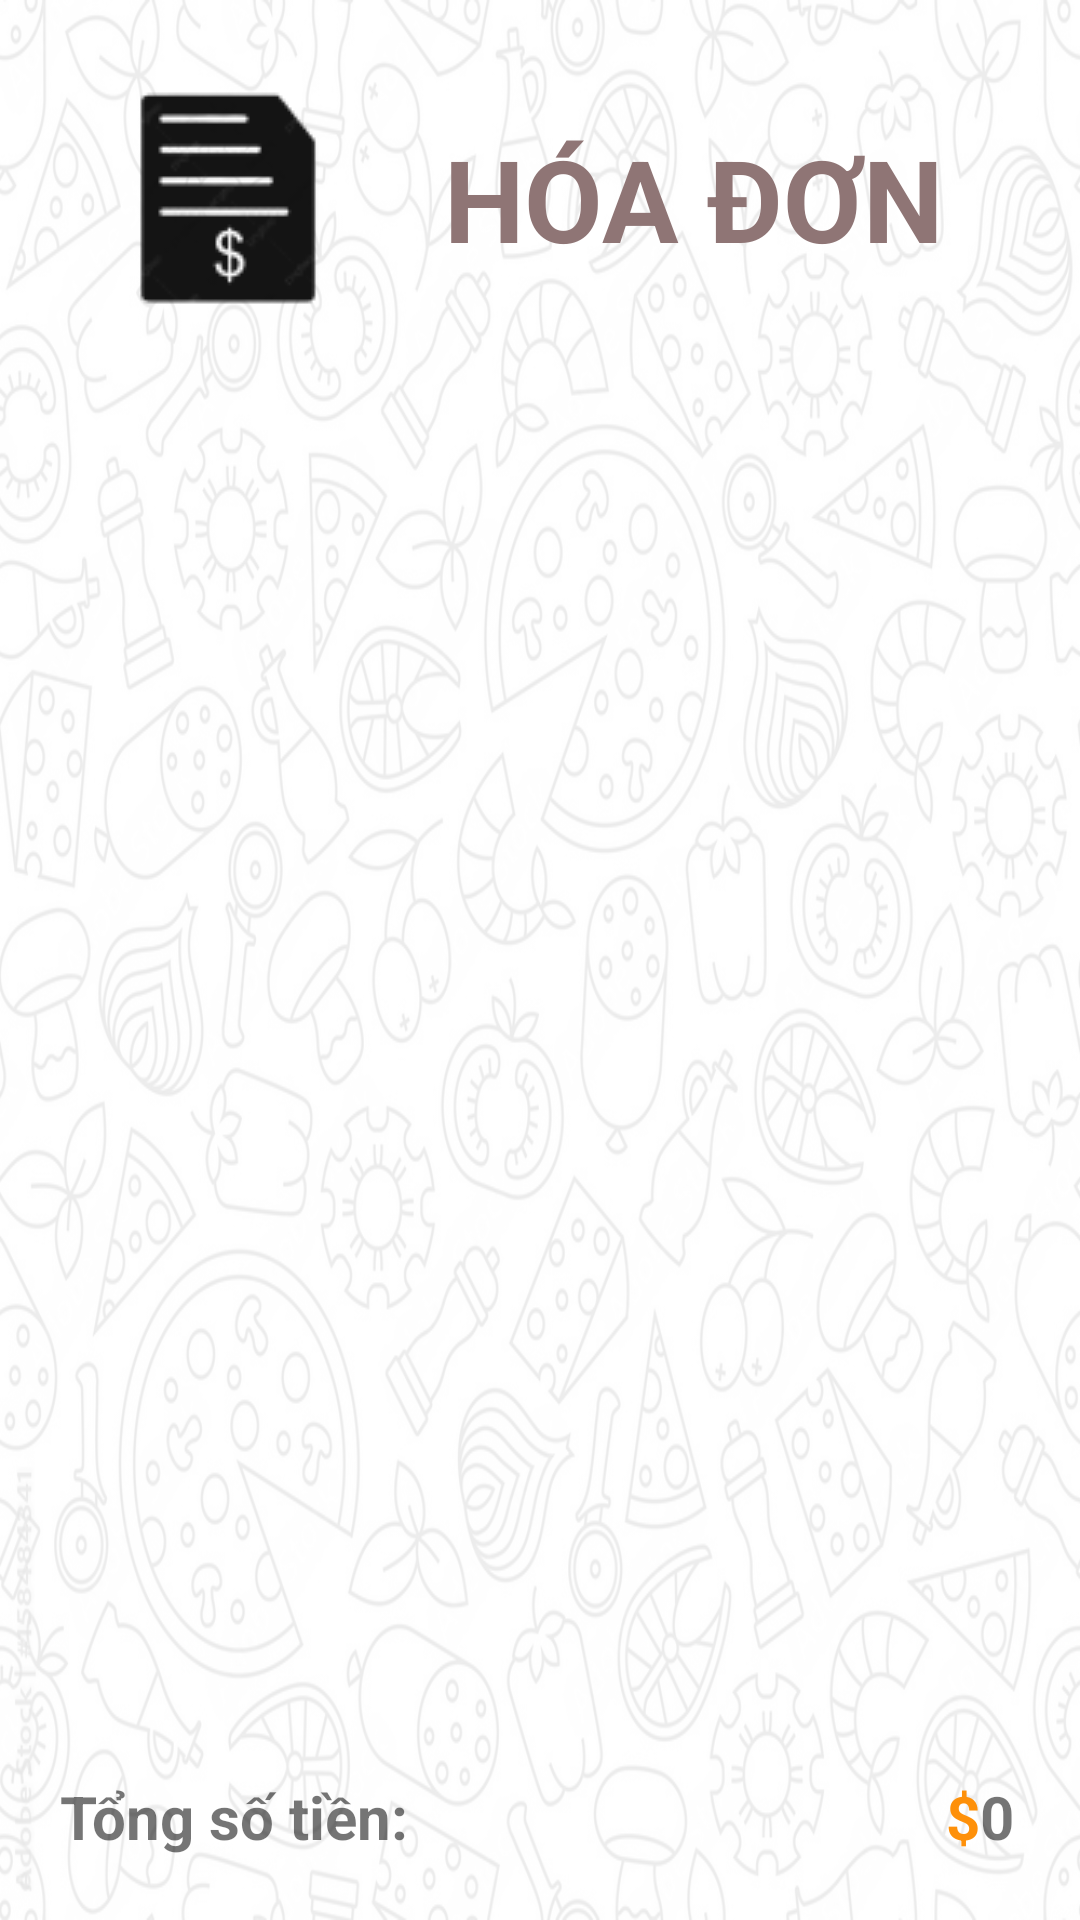

Where icons sit on this 1080px x 1920px app screen, as (x1, y1, x2, y2):
hoadon: (140, 92, 317, 304)
